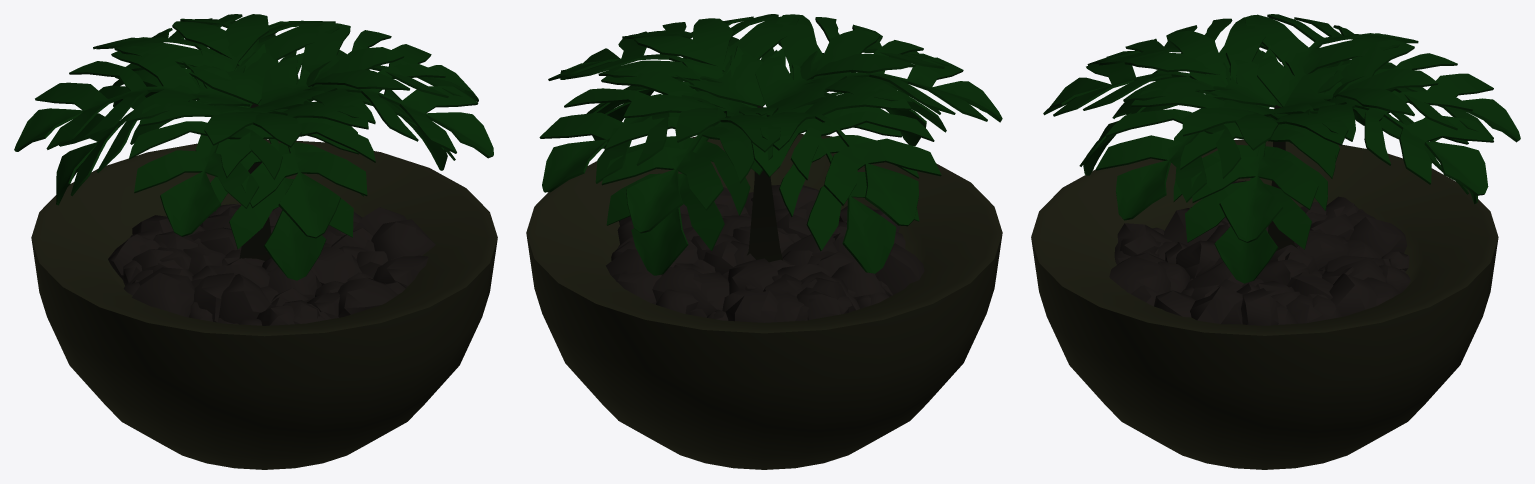
The model's file is Plant_Holo_02.fbx.
3 renders of one model, left to right at view 1: azimuth 30°, elevation 25°; view 2: azimuth 150°, elevation 25°; view 3: azimuth 270°, elevation 25°, orthographic. The views are drawn at different scales.
Parts seen in each view (by area): view 1: PLANT_02; view 2: PLANT_02; view 3: PLANT_02.
Boxes of the visible parts, box(x1,y1,x2,y2) form: PLANT_02: box(14, 14, 497, 469); PLANT_02: box(526, 14, 1002, 469); PLANT_02: box(1031, 14, 1520, 469).
Size of the model in its own units: 101 by 87.83 by 105.
